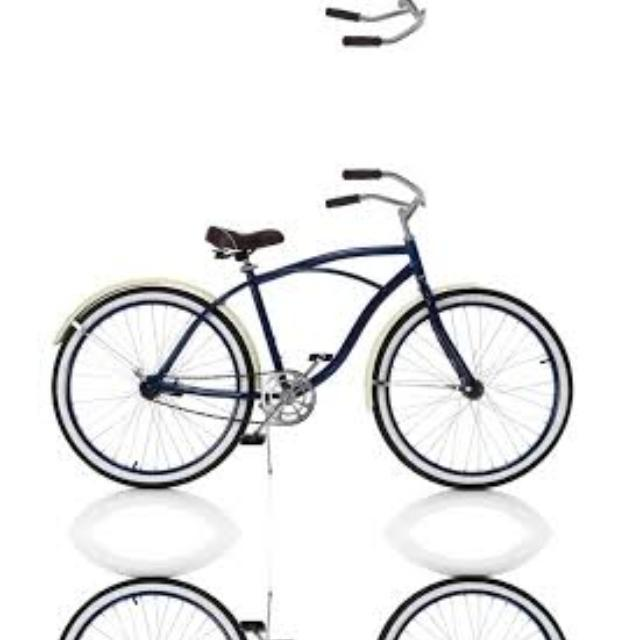obstacle: (49, 153, 596, 505), (49, 561, 596, 640), (49, 0, 596, 61)
